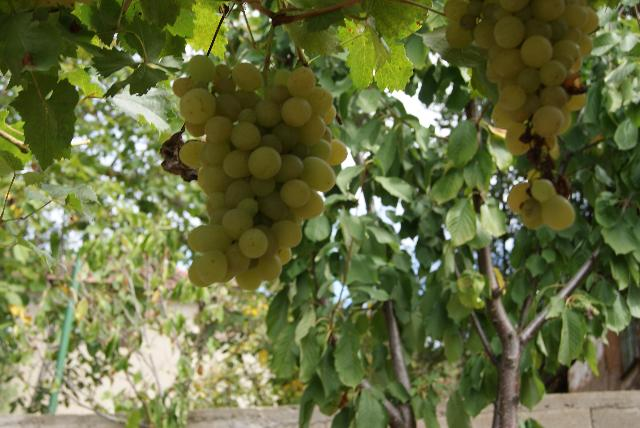grapes: (172, 56, 346, 290), (444, 0, 599, 230)
